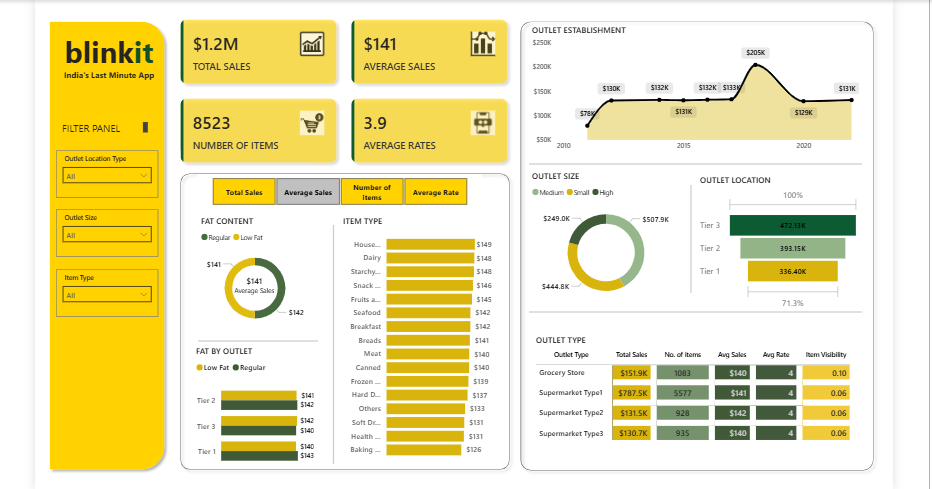

The page's visual inventory and layout, read from the dashboard file:
{"tool":"powerbi","page":{"name":"Page 1","canvas":[1400,800],"ordinal":0},"visuals":[{"type":"shape","box":[14.7,26.1,205.7,749.4],"z":0},{"type":"textbox","box":[36.7,45.9,167.2,91.9],"z":1000},{"type":"textbox","box":[36.7,108.4,167.2,29.4],"z":1001},{"type":"cardVisual","fields":{"Data":["BlinkIT Grocery Data.Total Sales","BlinkIT Grocery Data.Average Sales","BlinkIT Grocery Data.Number of items","BlinkIT Grocery Data.Average Rate"]},"box":[220.4,14.7,569.8,269.4],"z":1002},{"type":"shape","box":[228.6,274.3,555.1,501.2],"z":1003},{"type":"donutChart","title":"FAT CONTENT","fields":{"Category":["BlinkIT Grocery Data.Item Fat Content"],"Y":["BlinkIT Grocery Data.Average Sales"]},"box":[266.1,351,186.1,194.3],"z":1004},{"type":"slicer","fields":{"Values":["Metrics.Metrics"]},"box":[264.5,284.1,465.3,57.1],"z":1005},{"type":"cardVisual","fields":{"Data":["BlinkIT Grocery Data.Average Sales"]},"box":[295.5,429.4,125.7,71.8],"z":1006},{"type":"clusteredBarChart","title":"FAT BY OUTLET","fields":{"Y":["BlinkIT Grocery Data.Average Sales"],"Category":["BlinkIT Grocery Data.Outlet Location Type"],"Series":["BlinkIT Grocery Data.Item Fat Content"]},"box":[258,563.3,202.4,212.2],"z":1007},{"type":"shape","box":[266.1,550.2,195.9,13.1],"z":1008},{"type":"shape","box":[476.7,367.3,21.2,390.2],"z":1009},{"type":"barChart","title":"ITEM TYPE","fields":{"Category":["BlinkIT Grocery Data.Item Type"],"Y":["BlinkIT Grocery Data.Average Sales"]},"box":[498,351,253.1,406.5],"z":1010},{"type":"shape","box":[783.7,26.1,594.3,751],"z":1011},{"type":"lineChart","title":"OUTLET ESTABLISHMENT","fields":{"Y":["BlinkIT Grocery Data.Total Sales"],"Category":["BlinkIT Grocery Data.Outlet Establishment Year"]},"box":[806.5,39.2,543.7,217.1],"z":1012},{"type":"shape","box":[806.5,261.2,543.7,13.1],"z":1013},{"type":"donutChart","title":"OUTLET SIZE","fields":{"Y":["BlinkIT Grocery Data.Total Sales"],"Category":["BlinkIT Grocery Data.Outlet Size"]},"box":[806.5,277.6,251.4,225.3],"z":1014},{"type":"funnel","title":"OUTLET LOCATION","fields":{"Y":["Sum(BlinkIT Grocery Data.Sales)"],"Category":["BlinkIT Grocery Data.Outlet Location Type"]},"box":[1080.8,284.1,269.4,225.3],"z":1015},{"type":"shape","box":[806.5,502.9,543.7,13.1],"z":1016},{"type":"shape","box":[1061.2,302,19.6,176.3],"z":1018},{"type":"pivotTable","title":"OUTLET TYPE","fields":{"Rows":["BlinkIT Grocery Data.Outlet Type"],"Values":["BlinkIT Grocery Data.Total Sales","BlinkIT Grocery Data.Number of items","BlinkIT Grocery Data.Average Sales","BlinkIT Grocery Data.Average Rate","Avg(BlinkIT Grocery Data.Item Visibility)"]},"box":[813.1,545.3,537.1,182.9],"z":1019},{"type":"slicer","fields":{"Values":["BlinkIT Grocery Data.Outlet Location Type"]},"box":[34.3,244.9,166.5,78.4],"z":1020},{"type":"slicer","fields":{"Values":["BlinkIT Grocery Data.Outlet Size"]},"box":[34.3,341.2,166.5,78.4],"z":1021},{"type":"slicer","fields":{"Values":["BlinkIT Grocery Data.Item Type"]},"box":[34.3,439.2,166.5,78.4],"z":1022},{"type":"textbox","box":[39.2,194.3,150.2,29.4],"z":1023}]}

Visuals, with their boxes on the page's 1400x800 design canvas (x1, y1, x2, y2). These are canvas units, not pixel positions in the 932x489 screenshot, which may show the page scaled, cropped or inside an application window:
shape: x1=15, y1=26, x2=220, y2=776
textbox: x1=37, y1=46, x2=204, y2=138
textbox: x1=37, y1=108, x2=204, y2=138
cardVisual - BlinkIT Grocery Data.Total Sales x BlinkIT Grocery Data.Average Sales: x1=220, y1=15, x2=790, y2=284
shape: x1=229, y1=274, x2=784, y2=776
"FAT CONTENT" donutChart: x1=266, y1=351, x2=452, y2=545
slicer - Metrics.Metrics: x1=264, y1=284, x2=730, y2=341
cardVisual - BlinkIT Grocery Data.Average Sales: x1=296, y1=429, x2=421, y2=501
"FAT BY OUTLET" clusteredBarChart: x1=258, y1=563, x2=460, y2=776
shape: x1=266, y1=550, x2=462, y2=563
shape: x1=477, y1=367, x2=498, y2=758
"ITEM TYPE" barChart: x1=498, y1=351, x2=751, y2=758
shape: x1=784, y1=26, x2=1378, y2=777
"OUTLET ESTABLISHMENT" lineChart: x1=806, y1=39, x2=1350, y2=256
shape: x1=806, y1=261, x2=1350, y2=274
"OUTLET SIZE" donutChart: x1=806, y1=278, x2=1058, y2=503
"OUTLET LOCATION" funnel: x1=1081, y1=284, x2=1350, y2=509
shape: x1=806, y1=503, x2=1350, y2=516
shape: x1=1061, y1=302, x2=1081, y2=478
"OUTLET TYPE" pivotTable: x1=813, y1=545, x2=1350, y2=728
slicer - BlinkIT Grocery Data.Outlet Location Type: x1=34, y1=245, x2=201, y2=323
slicer - BlinkIT Grocery Data.Outlet Size: x1=34, y1=341, x2=201, y2=420
slicer - BlinkIT Grocery Data.Item Type: x1=34, y1=439, x2=201, y2=518
textbox: x1=39, y1=194, x2=189, y2=224
